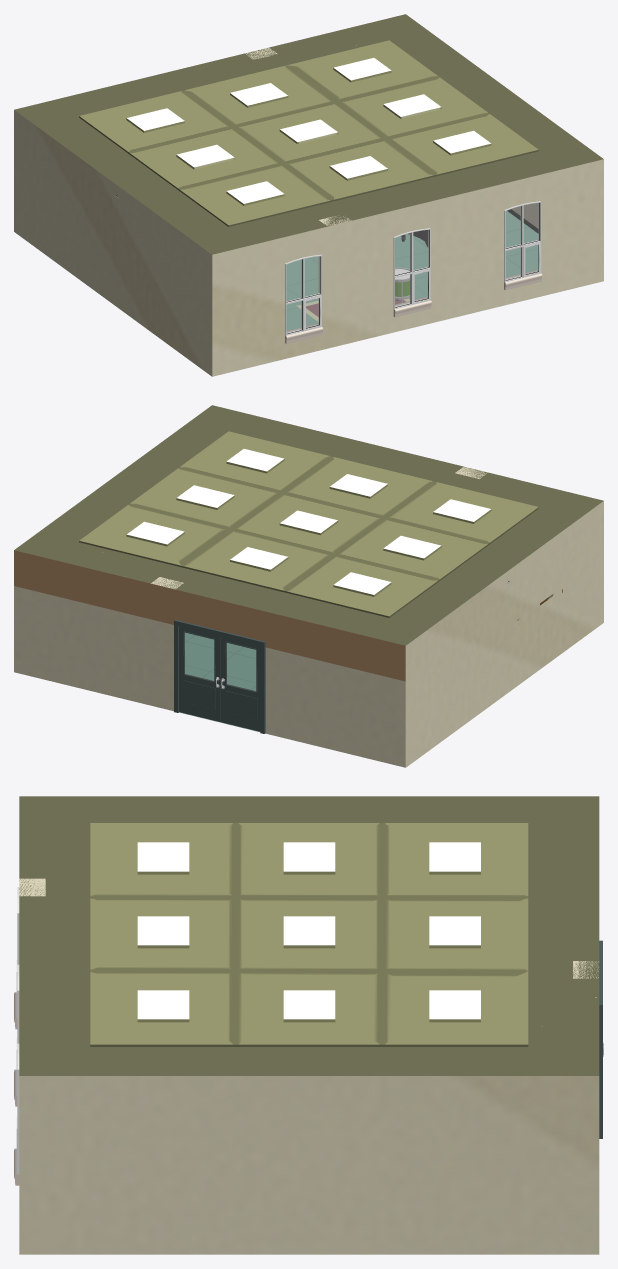
Rendered from Music Room.fbx.
The picture shows the model from 3 angles, top to bottom: view 1: azimuth 30°, elevation 25°; view 2: azimuth 150°, elevation 25°; view 3: azimuth 270°, elevation 25°; orthographic projection. The views are drawn at different scales.
Visible parts, largest first — view 1: Room, Window.020, Window.002, Window.001; view 2: Room, Door.001, Door, DoorFrame; view 3: Room, DoorFrame.
Part boxes in pixels (x1,y1,x2,y2): Room: (14,14,603,376); Window.020: (393,228,431,317); Window.002: (504,201,542,290); Window.001: (285,254,323,343); Room: (14,405,603,767); Door.001: (179,626,220,721); Door: (220,636,260,731); DoorFrame: (174,619,265,733); Room: (19,796,599,1254); DoorFrame: (599,940,602,1138).
Size of the model in its own units: 9.41 by 2.88 by 8.38.
24 materials, 12 textured.
